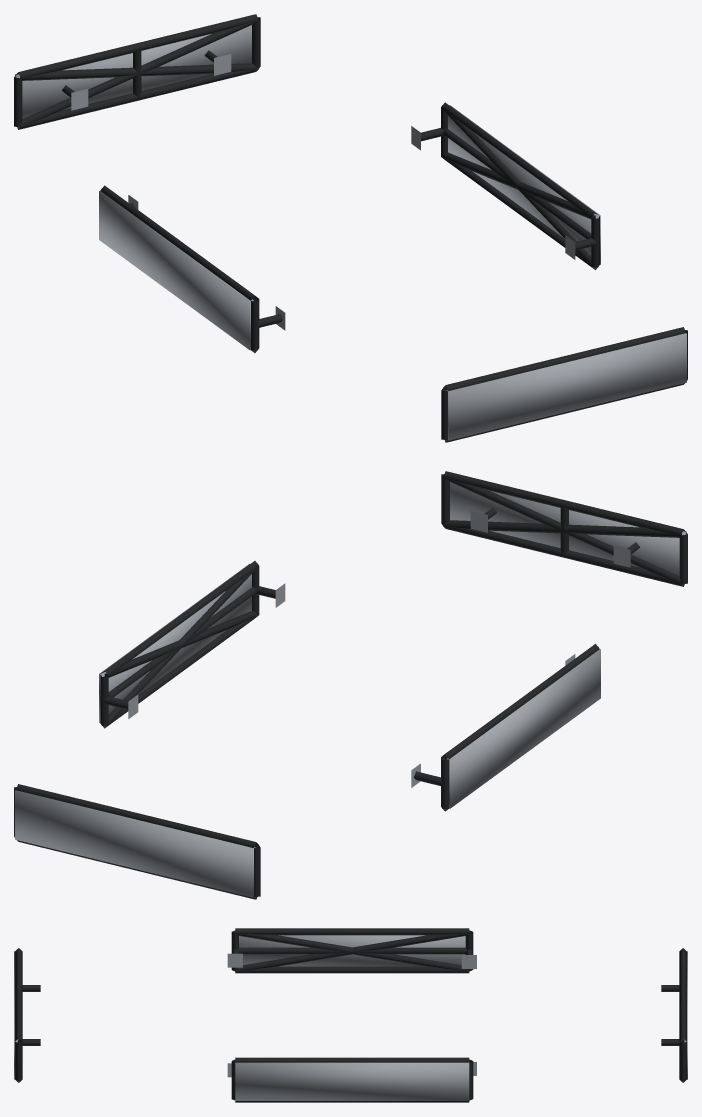
Rendered from vantra_onix_protecao.glb.
3 renders of one model, top to bottom at view 1: azimuth 30°, elevation 25°; view 2: azimuth 150°, elevation 25°; view 3: azimuth 270°, elevation 25°, orthographic. The views are drawn at different scales.
Visible parts, largest first — view 1: Protection_front_Level3_Details, Protection_left_Level3_Details, Protection_rear_Level1_Details, Protection_rear_Level3_Details, Protection_right_Level1_Details, Protection_rear_Level2_Details, Protection_right_Level2_Details, Protection_right_Level3_Details, Protection_front_Level1_Details, Protection_left_Level1_Details; view 2: Protection_rear_Level3_Details, Protection_left_Level3_Details, Protection_front_Level1_Details, Protection_front_Level3_Details, Protection_right_Level1_Details, Protection_front_Level2_Details, Protection_right_Level2_Details, Protection_right_Level3_Details, Protection_rear_Level1_Details, Protection_left_Level1_Details; view 3: Protection_right_Level3_Details, Protection_left_Level2_Details, Protection_left_Level1_Details, Protection_left_Level3_Details, Protection_right_Level1_Details, Protection_rear_Level1_Details, Protection_front_Level1_Details.
Part boxes in pixels (box(x1,y1,x2,y2)): Protection_front_Level3_Details: box(446, 333, 686, 440); Protection_left_Level3_Details: box(99, 191, 253, 349); Protection_rear_Level1_Details: box(14, 14, 260, 129); Protection_rear_Level3_Details: box(15, 25, 251, 118); Protection_right_Level1_Details: box(411, 102, 599, 269); Protection_rear_Level2_Details: box(16, 20, 258, 128); Protection_right_Level2_Details: box(441, 109, 598, 269); Protection_right_Level3_Details: box(448, 105, 600, 264); Protection_front_Level1_Details: box(441, 327, 687, 442); Protection_left_Level1_Details: box(100, 185, 285, 352); Protection_rear_Level3_Details: box(15, 790, 255, 897); Protection_left_Level3_Details: box(446, 649, 600, 808); Protection_front_Level1_Details: box(441, 471, 687, 586); Protection_front_Level3_Details: box(450, 482, 686, 575); Protection_right_Level1_Details: box(100, 561, 285, 728); Protection_front_Level2_Details: box(443, 477, 685, 585); Protection_right_Level2_Details: box(101, 566, 258, 727); Protection_right_Level3_Details: box(99, 564, 251, 722); Protection_rear_Level1_Details: box(14, 784, 260, 899); Protection_left_Level1_Details: box(411, 644, 599, 811); Protection_right_Level3_Details: box(235, 1062, 469, 1100); Protection_left_Level2_Details: box(235, 931, 469, 971); Protection_left_Level1_Details: box(227, 928, 476, 973); Protection_left_Level3_Details: box(239, 935, 465, 966); Protection_right_Level1_Details: box(227, 1057, 476, 1102); Protection_rear_Level1_Details: box(661, 948, 686, 1082); Protection_front_Level1_Details: box(15, 948, 40, 1082).
Bounding box in the file's own units: 2.25 × 0.354 × 4.81.
Materials: 1 (1 with a texture image).
